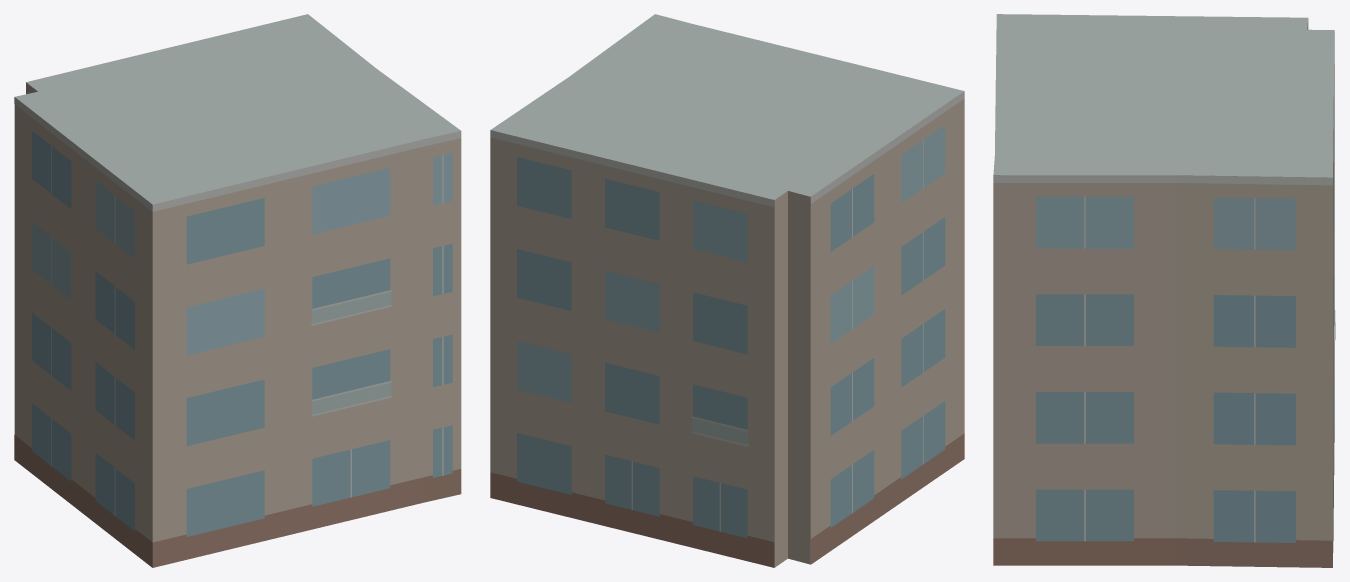
The model's file is survey-upis-32808345.glb.
3 views of the same model, side by side, from view 1: azimuth 30°, elevation 25°; view 2: azimuth 150°, elevation 25°; view 3: azimuth 270°, elevation 25° (orthographic). The views are drawn at different scales.
Parts seen in each view (by area): view 1: survey-upis-32808345.tmp; view 2: survey-upis-32808345.tmp; view 3: survey-upis-32808345.tmp.
Part boxes in pixels (x1,y1,x2,y2): survey-upis-32808345.tmp: [14, 14, 461, 567]; survey-upis-32808345.tmp: [490, 14, 964, 567]; survey-upis-32808345.tmp: [993, 14, 1335, 567].
Size of the model in its own units: 10.97 by 12.2 by 9.7.
